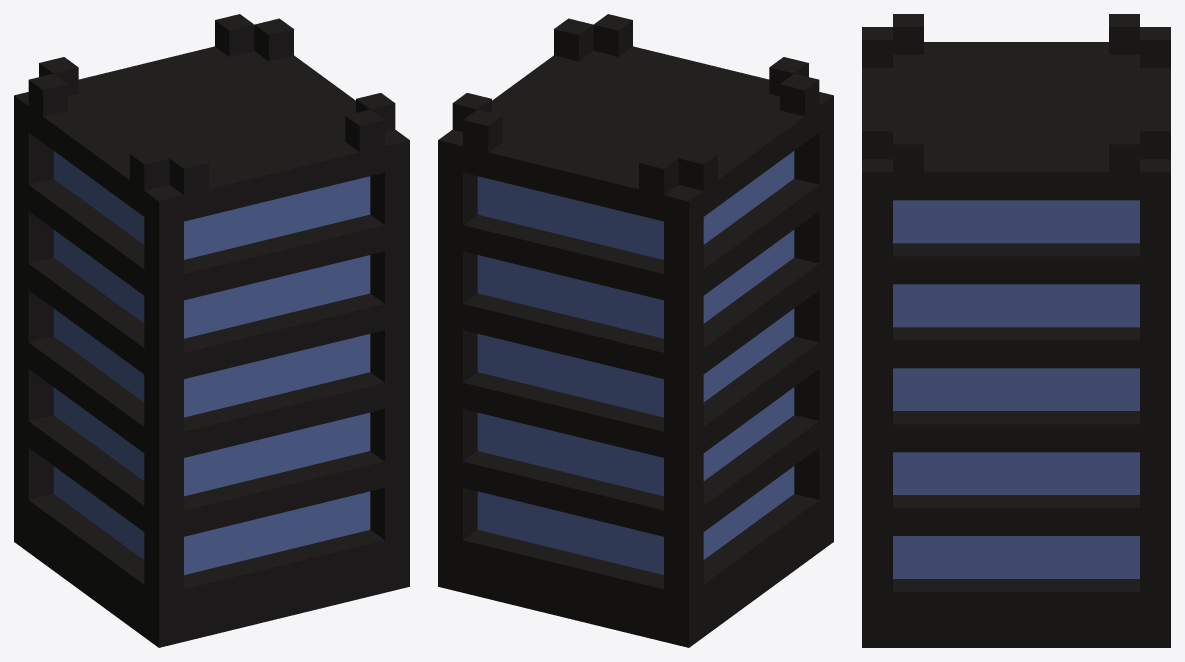
Rendered from building9.obj.
The picture shows the model from 3 angles, left to right: view 1: azimuth 30°, elevation 25°; view 2: azimuth 150°, elevation 25°; view 3: azimuth 270°, elevation 25°; orthographic projection. The views are drawn at different scales.
Size of the model in its own units: 1 by 1.8 by 1.
Materials: 1 (1 with a texture image).
